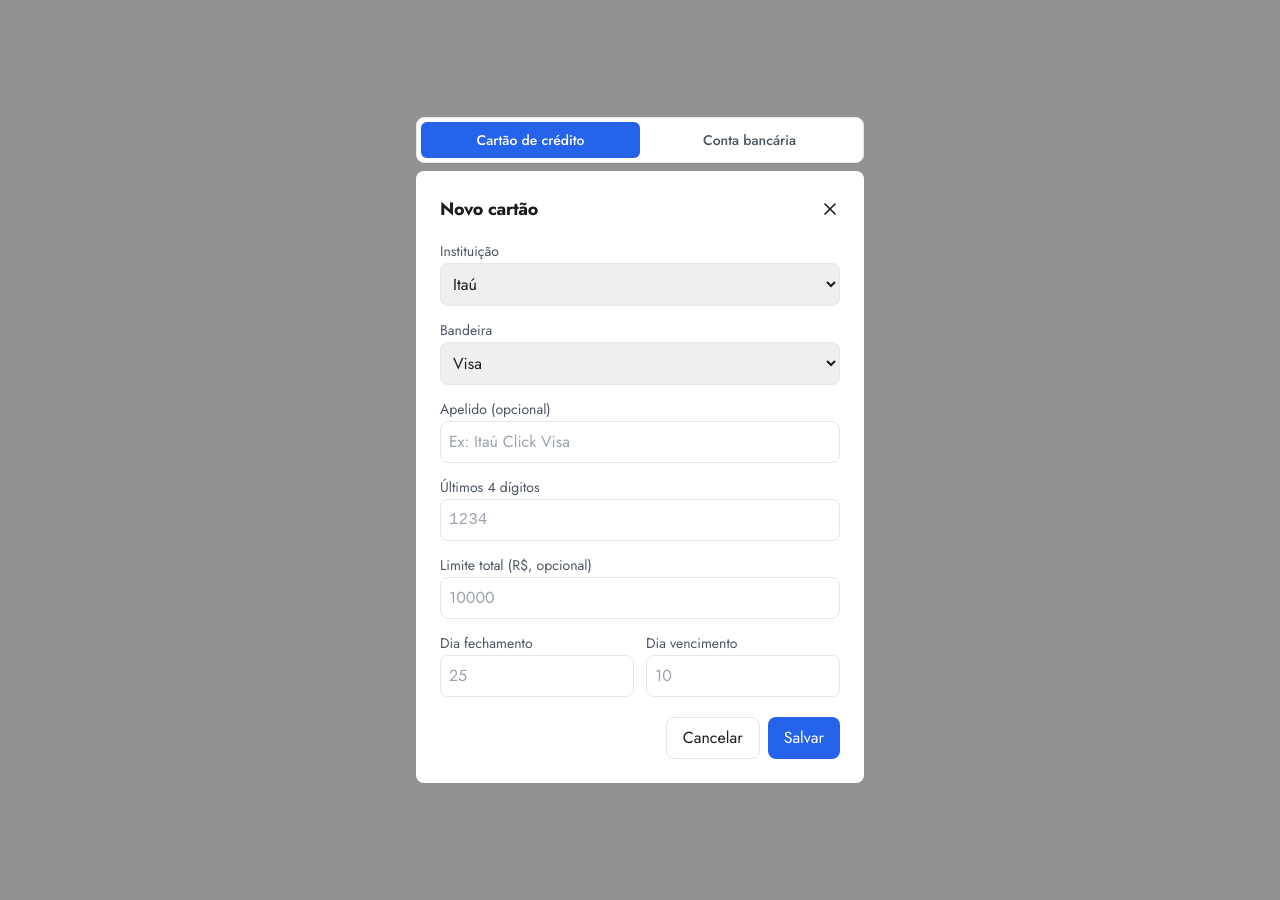
Test: AccountFormModal › starts on the credit card form and switches to bank account on toggle
expect the heading "Novo cartão" is shown: met, box [440,195,538,223]
Click the button "Conta bancária": point(750, 140) [640,122,859,158]
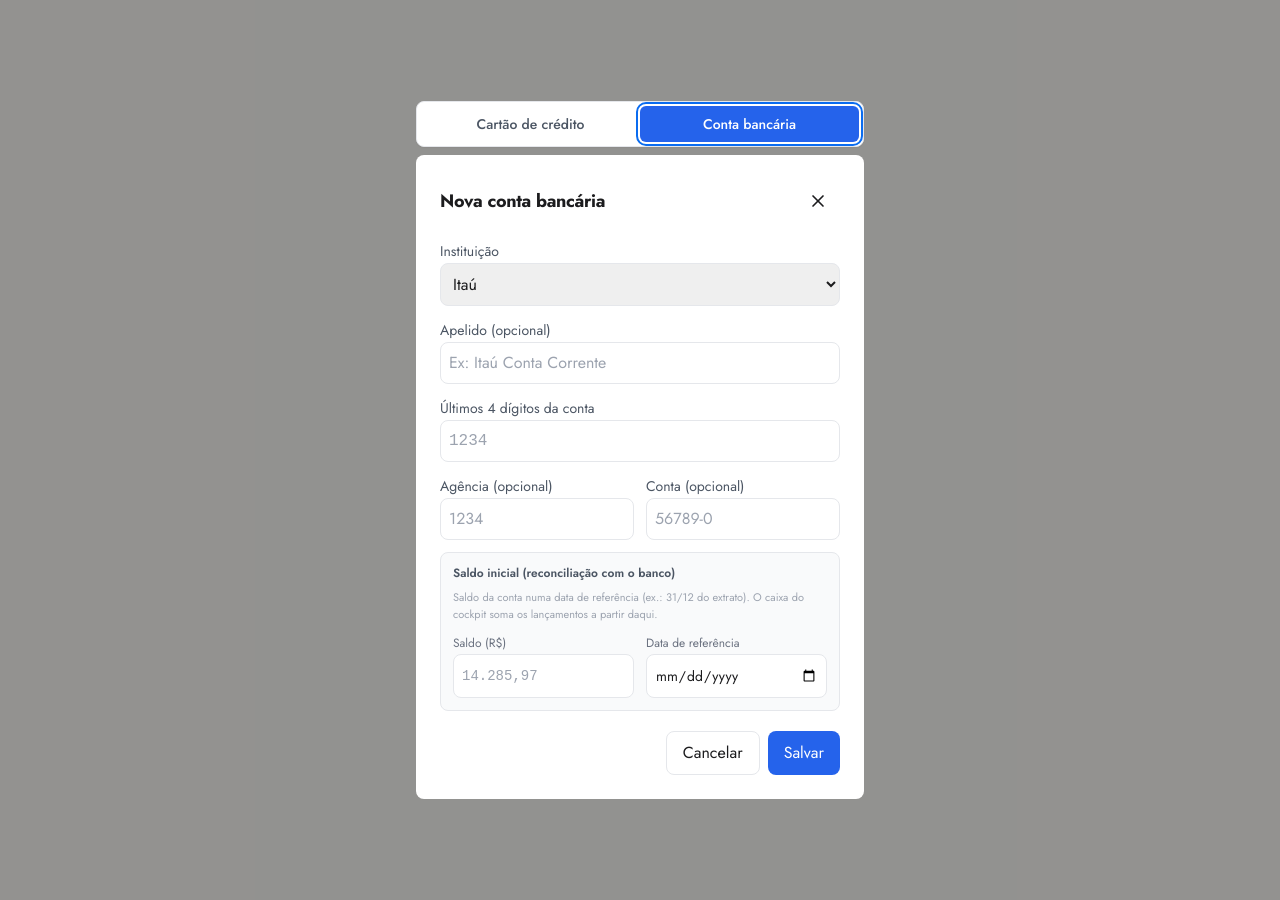
expect the heading "Nova conta bancária" is shown: met, box [440,187,605,215]
